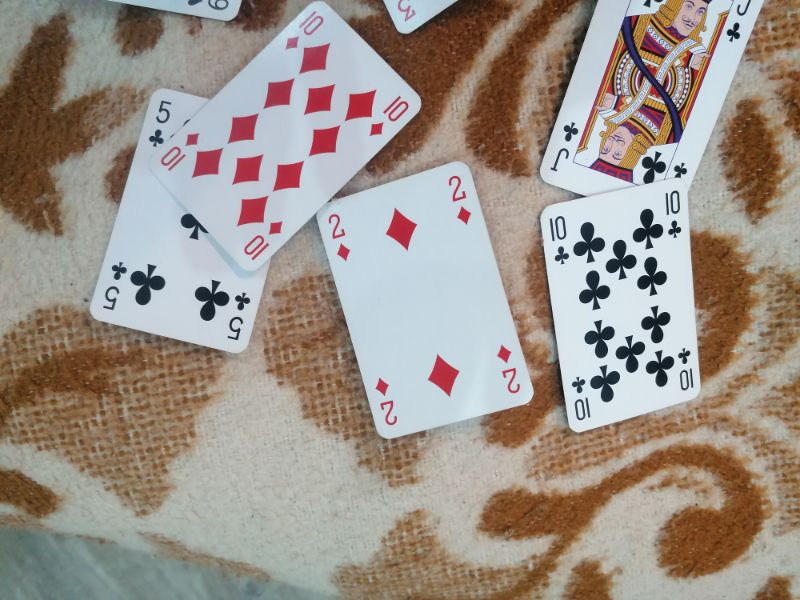2d: (372, 372, 403, 430), (445, 172, 475, 227), (495, 342, 523, 396), (325, 211, 354, 262)
5c: (98, 259, 131, 312), (146, 96, 177, 151), (225, 289, 254, 345)
Jc: (549, 118, 583, 172)
Tc: (546, 213, 574, 268), (569, 374, 594, 422), (662, 187, 683, 240), (676, 345, 696, 394)
Td: (281, 8, 328, 55), (365, 93, 412, 137), (158, 129, 203, 173), (241, 219, 286, 263)
